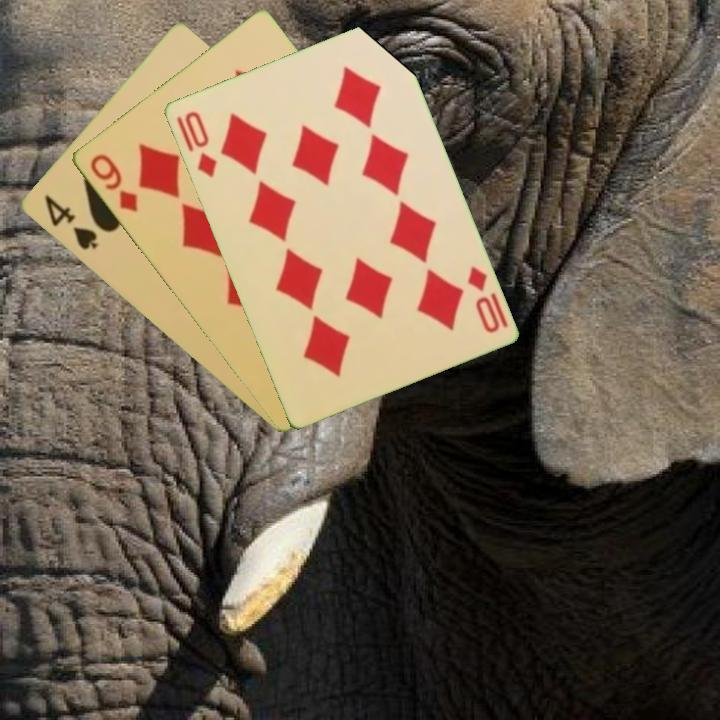10d: (463, 262, 511, 336), (172, 107, 220, 180)
4s: (40, 191, 101, 253)
9d: (86, 150, 141, 216)
